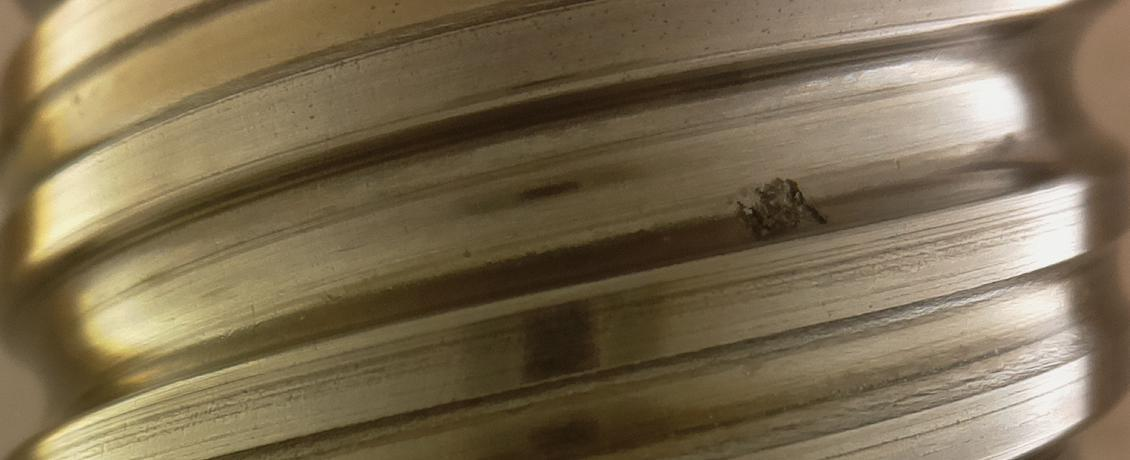pitting: (735, 176, 828, 241)
